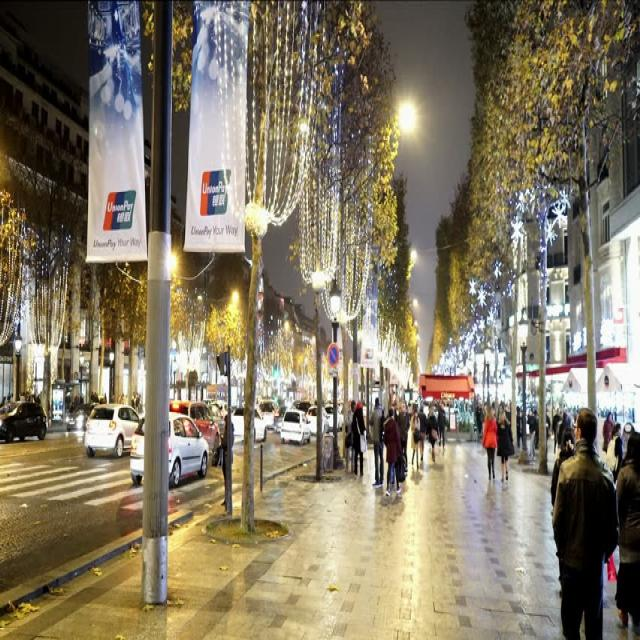body: (551, 406, 621, 638), (613, 430, 640, 624), (535, 401, 635, 435), (382, 407, 407, 497), (476, 398, 522, 446), (550, 425, 576, 508), (368, 396, 387, 488), (218, 414, 234, 514), (495, 408, 515, 483), (481, 401, 499, 480), (350, 400, 367, 477), (606, 421, 624, 484), (397, 402, 411, 474), (344, 398, 356, 474), (392, 397, 432, 419), (409, 408, 422, 472), (425, 408, 439, 463), (2, 390, 40, 410), (115, 390, 143, 414), (601, 411, 615, 456), (550, 407, 562, 456), (417, 404, 427, 461), (527, 408, 537, 461), (75, 391, 108, 406), (437, 403, 447, 449), (545, 406, 552, 458), (531, 408, 539, 449), (482, 402, 488, 438)
